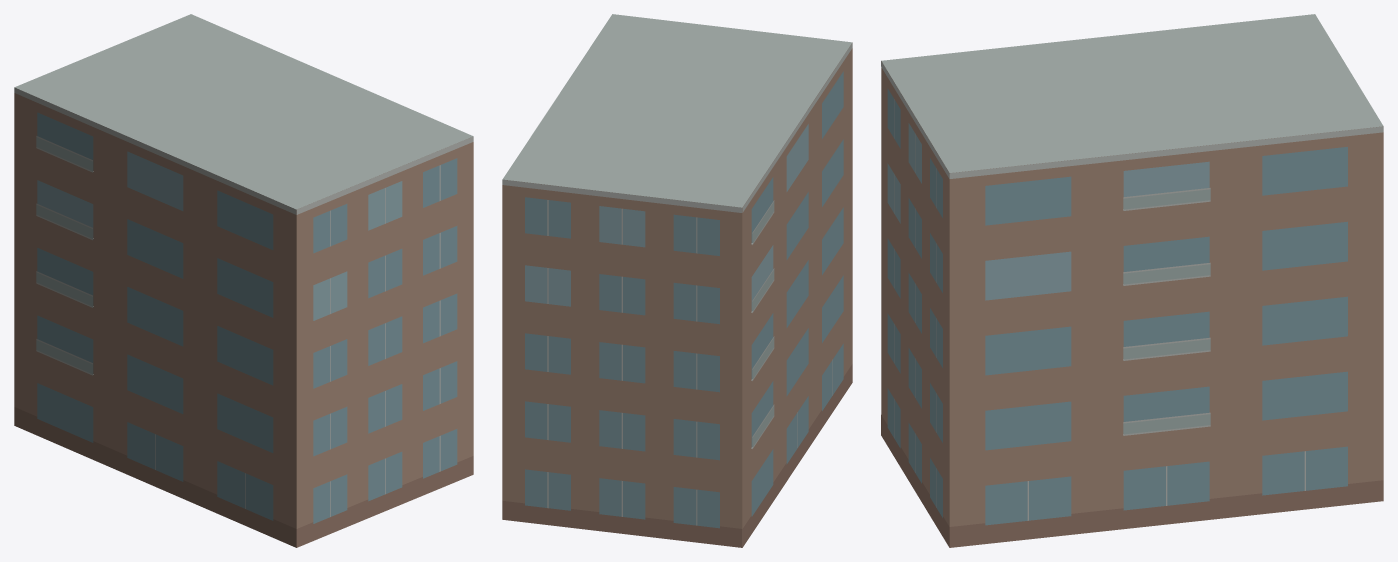
Rendered from survey-upis-32921395.glb.
3 views of the same model, side by side, from view 1: azimuth 30°, elevation 25°; view 2: azimuth 150°, elevation 25°; view 3: azimuth 270°, elevation 25° (orthographic). The views are drawn at different scales.
Visible parts, largest first — view 1: survey-upis-32921395.tmp; view 2: survey-upis-32921395.tmp; view 3: survey-upis-32921395.tmp.
Part boxes in pixels (left/top/right/bottom): survey-upis-32921395.tmp: left=14, top=14, right=473, bottom=547; survey-upis-32921395.tmp: left=502, top=14, right=852, bottom=547; survey-upis-32921395.tmp: left=881, top=14, right=1383, bottom=547.
Bounding box in the file's own units: 13.76 × 15.1 × 18.36.
